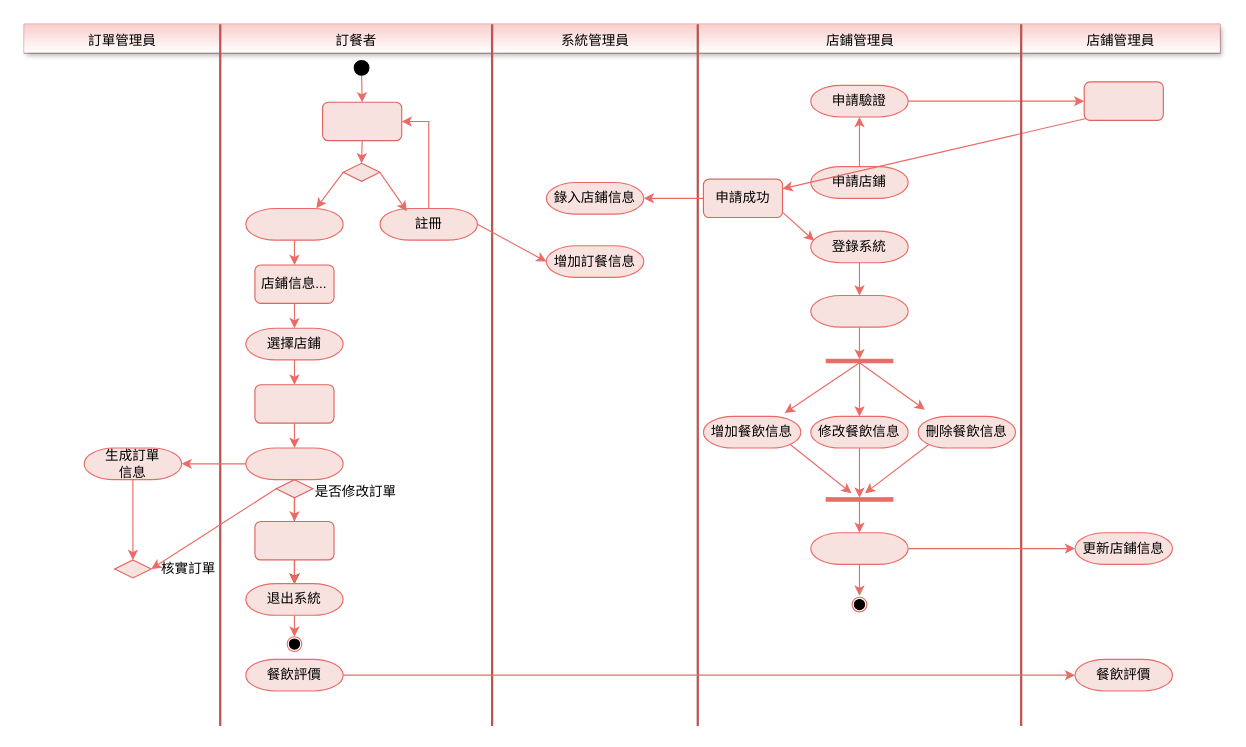
The diagram is 1246 pixels wide and 747 high, and some of its shapes have lost their labels. The centre of each missing label's shape, as x and y in pixels:
"下訂單" goes at [294,463].
"商家 鑒察檔案" goes at [1123,100].
"提交信息" goes at [859,548].
"登錄" goes at [294,223].
"訂單信息" goes at [294,540].
"訂單處理" goes at [859,310].
"進入網站" goes at [361,121].
"餐飲信息..." goes at [294,403].
